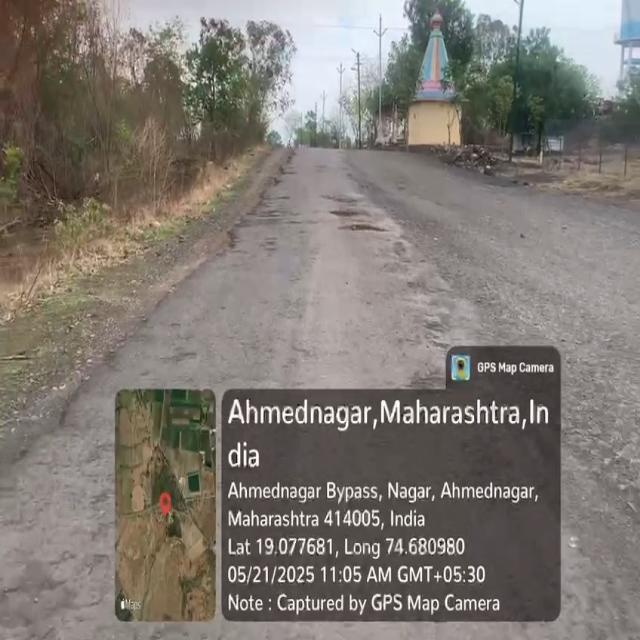damage surface: (391, 239, 456, 384)
pothole: (330, 204, 388, 239)
